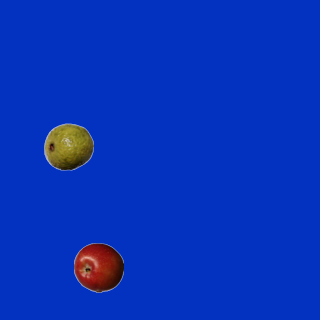Apple Braeburn: (73, 242, 123, 292)
Guava: (43, 121, 93, 171)
